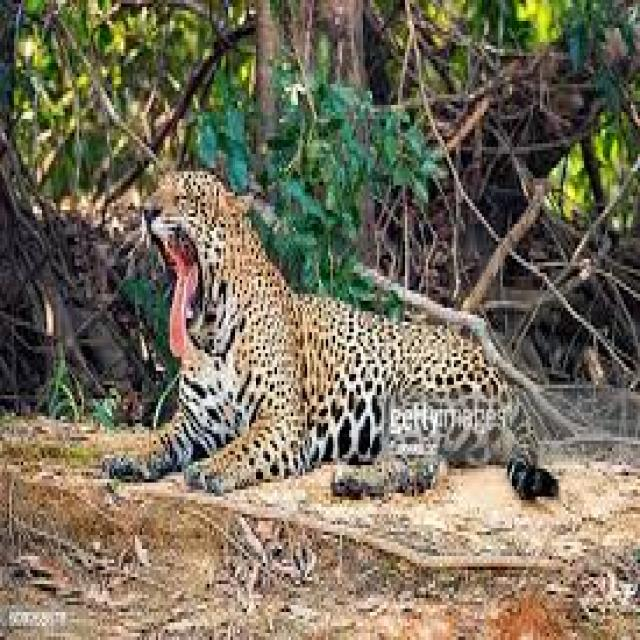Jaguar: (123, 161, 542, 514)
